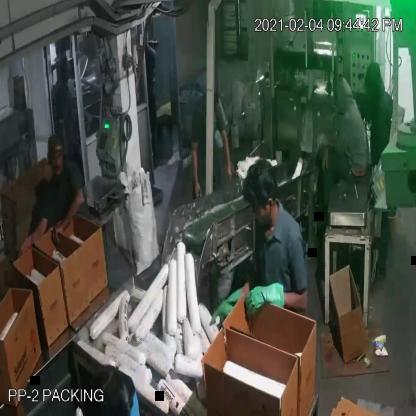glove: (248, 278, 288, 323), (210, 287, 244, 330)
no_glove: (51, 176, 91, 245), (13, 209, 55, 260), (216, 114, 233, 186), (189, 136, 205, 206)
